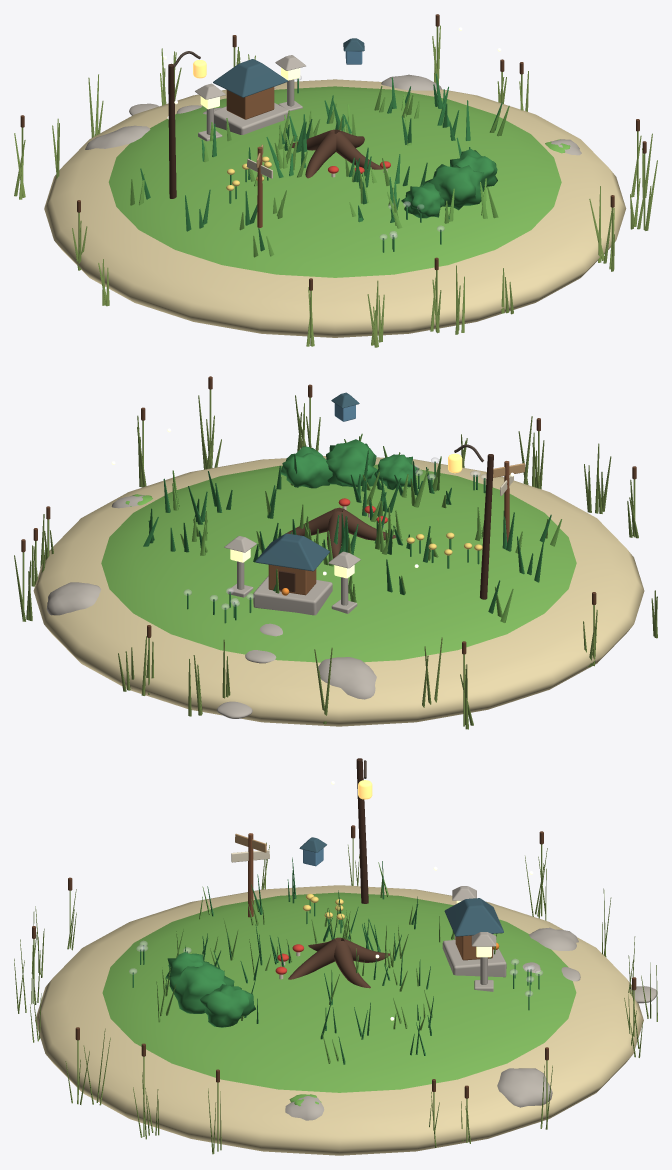
File: islet_09.glb
3 renders of one model, top to bottom at view 1: azimuth 30°, elevation 25°; view 2: azimuth 150°, elevation 25°; view 3: azimuth 270°, elevation 25°, orthographic. The views are drawn at different scales.
Visible parts, largest first — view 1: islet_grass.009, islet_sand.009, bush.028, shrine_roof.001, shrine_base.001, shrine_house.001, bush.027, lpost.001, bush.029, rock.054, root.038, rock.056 (+1 smaller); view 2: islet_grass.009, islet_sand.009, bush.028, shrine_roof.001, rock.054, shrine_base.001, bush.029, rock.056, lpost.001, bush.027, shrine_house.001, root.038 (+1 smaller); view 3: islet_grass.009, islet_sand.009, bush.028, rock.056, bush.029, shrine_roof.001, shrine_base.001, lpost.001, rock.054, root.036, root.039, rock.053 (+1 smaller).
Boxes of the visible parts, x1,y1,x2,y2 form: islet_grass.009: (108,86,561,277); islet_sand.009: (44,79,626,337); bush.028: (424,164,483,210); shrine_roof.001: (213,59,287,97); shrine_base.001: (214,103,289,134); shrine_house.001: (226,87,274,119); bush.027: (401,182,444,218); lpost.001: (168,63,176,198); bush.029: (450,148,497,191); rock.054: (85,125,150,149); root.038: (305,132,337,178); rock.056: (381,74,441,90); islet_grass.009: (101,464,576,662); islet_sand.009: (33,456,644,726); bush.028: (326,439,377,486); shrine_roof.001: (255,533,329,571); rock.054: (318,657,376,699); shrine_base.001: (253,576,332,615); bush.029: (281,446,332,488); rock.056: (46,582,100,615); lpost.001: (480,454,493,599); bush.027: (374,454,419,489); shrine_house.001: (268,564,316,595); root.038: (342,509,396,540); islet_grass.009: (102,892,576,1092); islet_sand.009: (35,885,643,1155); bush.028: (169,964,234,1013); rock.056: (497,1068,552,1107); bush.029: (200,984,255,1027); shrine_roof.001: (444,898,503,936); shrine_base.001: (442,940,506,977); lpost.001: (356,758,368,903); rock.054: (529,927,578,950); root.036: (334,941,370,988); root.039: (288,939,338,979); rock.053: (285,1096,324,1120).
Bounding box in the file's own units: 9.79 × 3.98 × 9.94.
